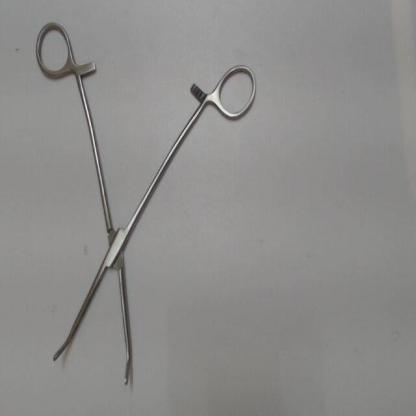Lahey Forceps: (29, 14, 262, 392)
